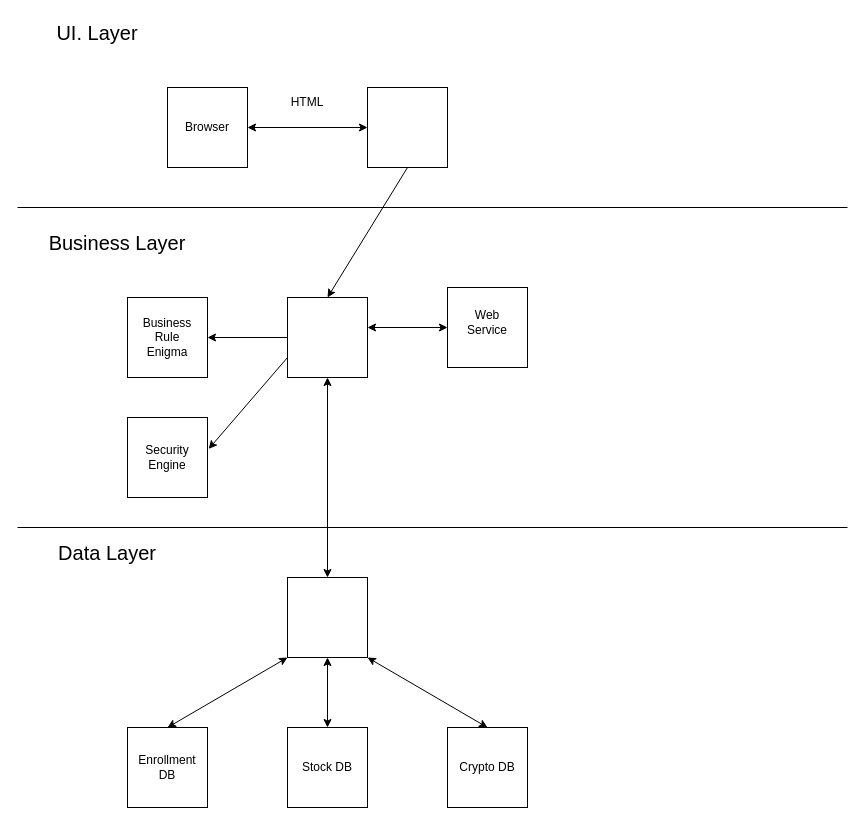
Image size: 866x825. Some labels were removed from this diagram. The centre of each missing label's shape, as x and y in pixels:
Flask: the point at 327,337
SQLAlchemy: the point at 327,617
Webserver / Firewall: the point at 407,127
